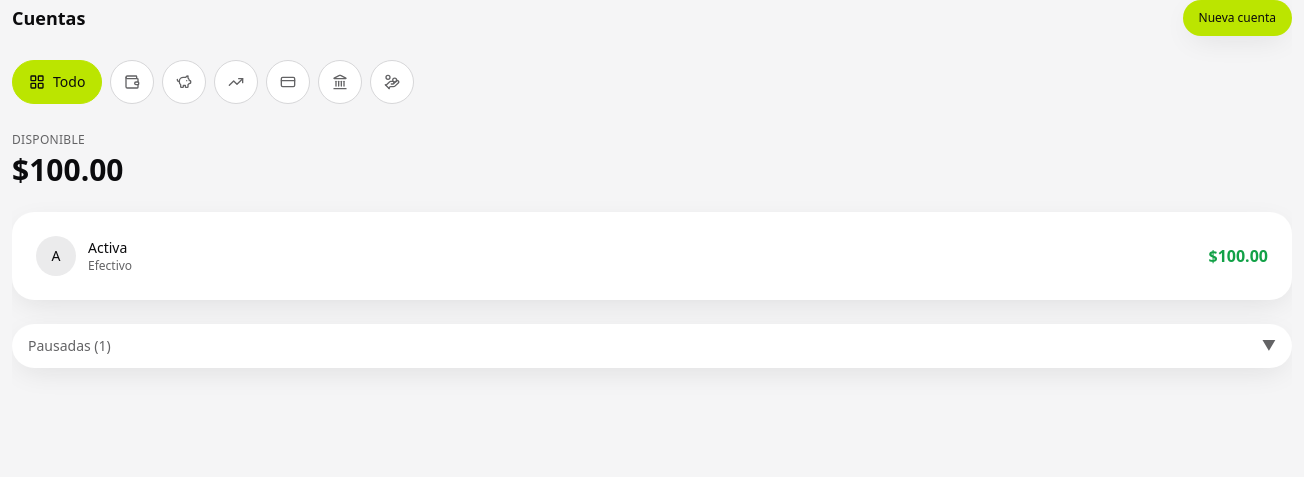
Test case: AccountsScreen — Pausadas section (T5.4) › expands to reveal paused accounts on click
Click the text "Pausadas (1)" at (69, 346), box [28,336,111,356]
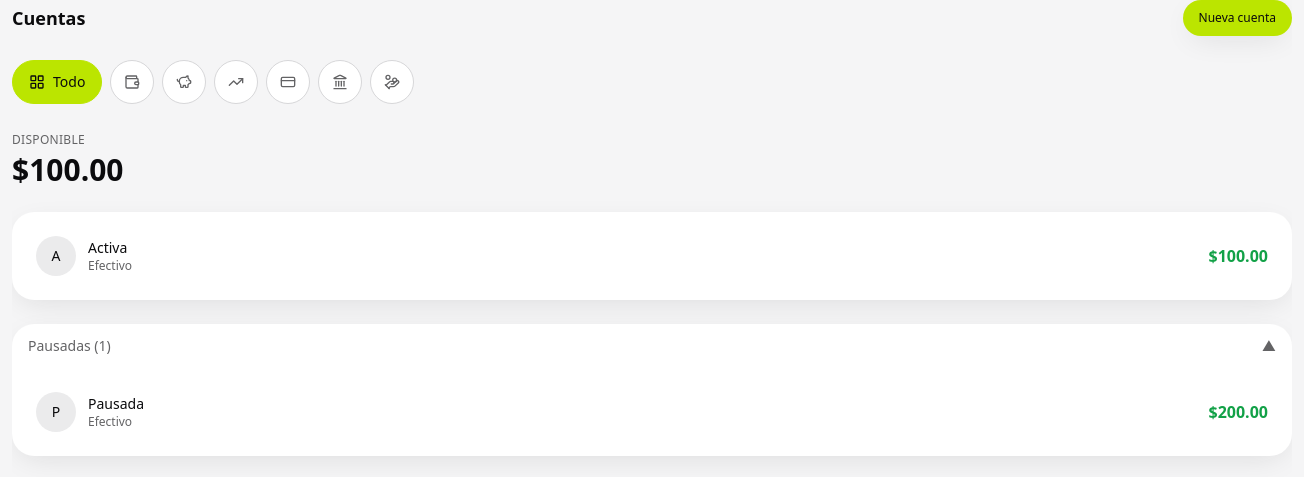
Now the text "Pausada" is shown, box [88,394,144,413]
